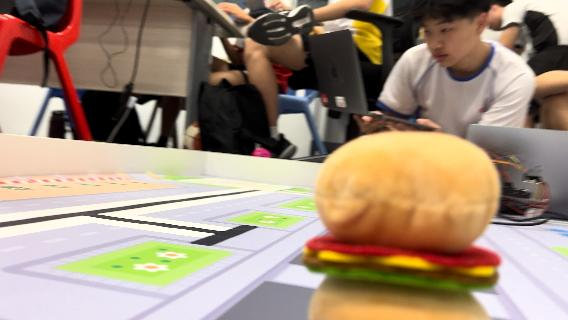burger: (298, 128, 504, 320)
